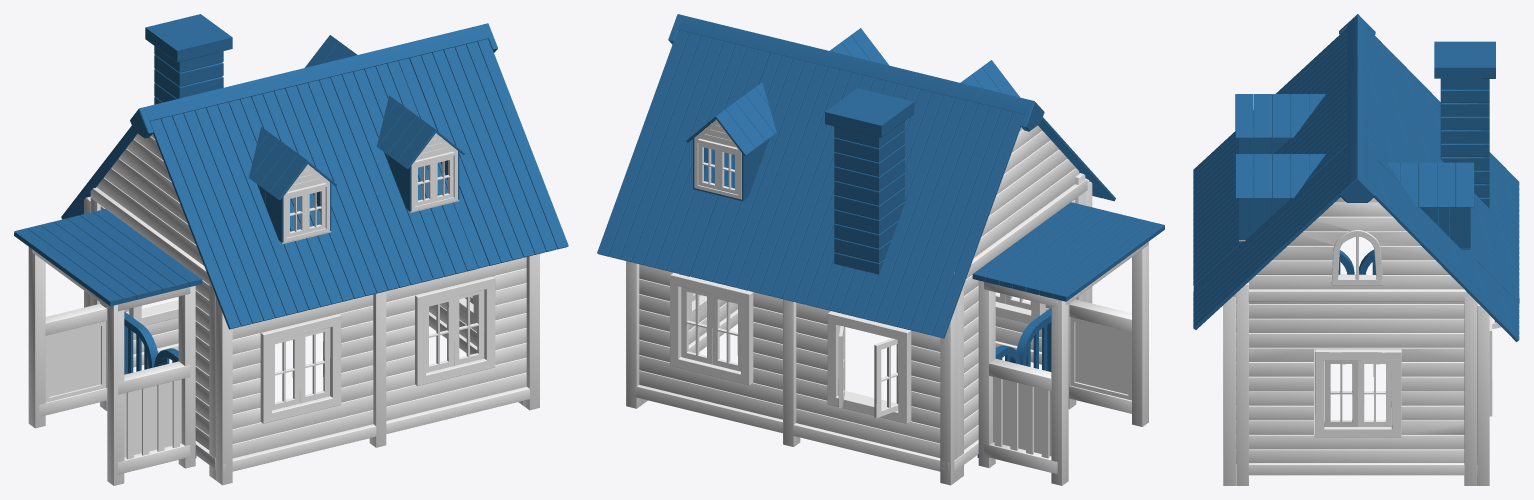
3 renders of one model, left to right at view 1: azimuth 30°, elevation 25°; view 2: azimuth 150°, elevation 25°; view 3: azimuth 270°, elevation 25°, orthographic. The views are drawn at different scales.
Visible parts, largest first — view 1: 3DXY_geometry_004, 3DXY_geometry_070, 3DXY_geometry_072, 3DXY_geometry_047, 3DXY_geometry_128, 3DXY_geometry_066, 3DXY_geometry_074, 3DXY_geometry_016, 3DXY_geometry_005, 3DXY_geometry_056, 3DXY_geometry_049, 3DXY_geometry_001 (+54 smaller); view 2: 3DXY_geometry_012, 3DXY_geometry_070, 3DXY_geometry_128, 3DXY_geometry_072, 3DXY_geometry_047, 3DXY_geometry_066, 3DXY_geometry_073, 3DXY_geometry_013, 3DXY_geometry_016, 3DXY_geometry_058, 3DXY_geometry_062, 3DXY_geometry_017 (+43 smaller); view 3: 3DXY_geometry_047, 3DXY_geometry_128, 3DXY_geometry_064, 3DXY_geometry_125, 3DXY_geometry_066, 3DXY_geometry_046, 3DXY_geometry_006, 3DXY_geometry_045, 3DXY_geometry_050, 3DXY_geometry_048, 3DXY_geometry_007, 3DXY_geometry_008 (+47 smaller).
Boxes of the visible parts, x1=… form: 3DXY_geometry_004: x1=232, y1=257, x2=526, y2=458; 3DXY_geometry_070: x1=28, y1=247, x2=195, y2=485; 3DXY_geometry_072: x1=14, y1=209, x2=202, y2=306; 3DXY_geometry_047: x1=96, y1=133, x2=476, y2=469; 3DXY_geometry_128: x1=145, y1=14, x2=232, y2=104; 3DXY_geometry_066: x1=144, y1=24, x2=488, y2=121; 3DXY_geometry_074: x1=45, y1=321, x2=105, y2=402; 3DXY_geometry_016: x1=61, y1=119, x2=240, y2=329; 3DXY_geometry_005: x1=223, y1=386, x2=529, y2=472; 3DXY_geometry_056: x1=260, y1=314, x2=341, y2=423; 3DXY_geometry_049: x1=415, y1=276, x2=495, y2=386; 3DXY_geometry_001: x1=216, y1=296, x2=232, y2=485; 3DXY_geometry_012: x1=639, y1=264, x2=940, y2=457; 3DXY_geometry_070: x1=978, y1=241, x2=1148, y2=485; 3DXY_geometry_128: x1=825, y1=88, x2=914, y2=275; 3DXY_geometry_072: x1=972, y1=202, x2=1164, y2=301; 3DXY_geometry_047: x1=688, y1=125, x2=1079, y2=471; 3DXY_geometry_066: x1=677, y1=15, x2=1029, y2=114; 3DXY_geometry_073: x1=1070, y1=317, x2=1131, y2=400; 3DXY_geometry_013: x1=628, y1=385, x2=949, y2=472; 3DXY_geometry_016: x1=932, y1=112, x2=1115, y2=338; 3DXY_geometry_058: x1=827, y1=311, x2=911, y2=423; 3DXY_geometry_062: x1=670, y1=272, x2=753, y2=385; 3DXY_geometry_017: x1=920, y1=109, x2=1102, y2=335; 3DXY_geometry_047: x1=1236, y1=197, x2=1464, y2=449; 3DXY_geometry_128: x1=1434, y1=41, x2=1495, y2=208; 3DXY_geometry_064: x1=1314, y1=349, x2=1401, y2=437; 3DXY_geometry_125: x1=1387, y1=162, x2=1474, y2=207; 3DXY_geometry_066: x1=1347, y1=16, x2=1367, y2=184; 3DXY_geometry_046: x1=1236, y1=318, x2=1464, y2=332; 3DXY_geometry_006: x1=1236, y1=449, x2=1464, y2=463; 3DXY_geometry_045: x1=1193, y1=182, x2=1519, y2=341; 3DXY_geometry_050: x1=1232, y1=289, x2=1468, y2=301; 3DXY_geometry_048: x1=1248, y1=463, x2=1477, y2=475; 3DXY_geometry_007: x1=1236, y1=282, x2=1248, y2=485; 3DXY_geometry_008: x1=1464, y1=294, x2=1476, y2=485.
Size of the model in its own units: 4054 by 3066 by 2784.
